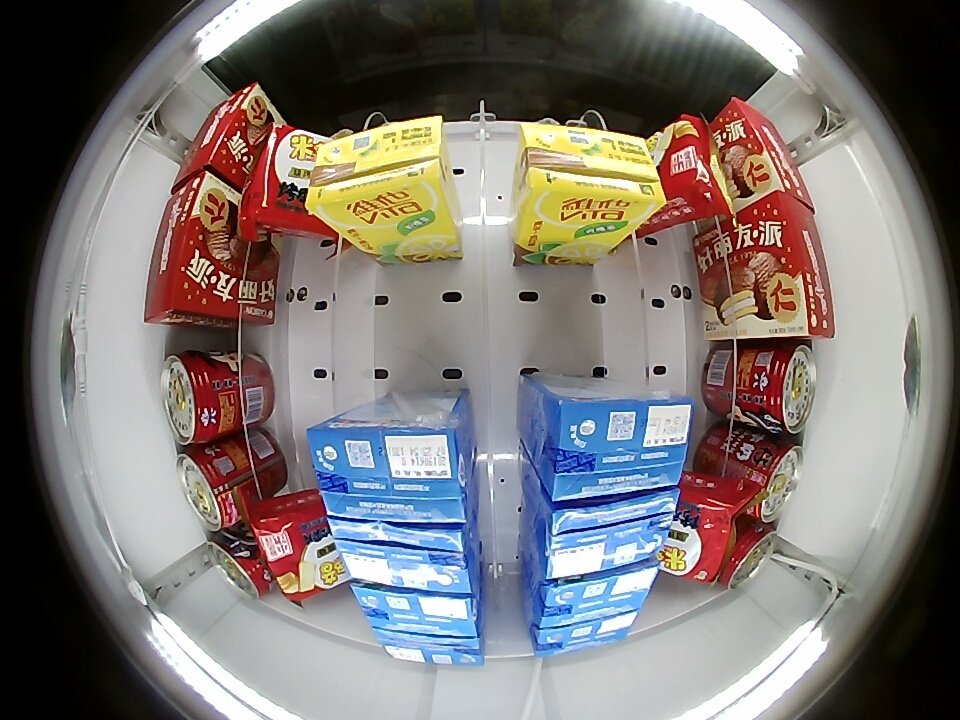haoliyou: (144, 171, 244, 324), (729, 192, 834, 337), (715, 98, 816, 214), (176, 84, 272, 186)
kaomo_shaokao: (240, 123, 341, 238), (251, 491, 347, 600), (642, 115, 729, 233), (660, 476, 736, 584)
wangzainiunai: (740, 343, 817, 436), (162, 352, 236, 445), (176, 444, 251, 532), (731, 437, 805, 523), (206, 528, 272, 602), (721, 517, 778, 590)
weitanai: (307, 407, 475, 526), (534, 389, 696, 502), (530, 485, 678, 581), (327, 516, 482, 594), (527, 559, 660, 629), (351, 582, 484, 638), (529, 611, 638, 656), (371, 626, 486, 667)
weitaningmeng: (518, 122, 664, 224), (311, 115, 447, 224)
